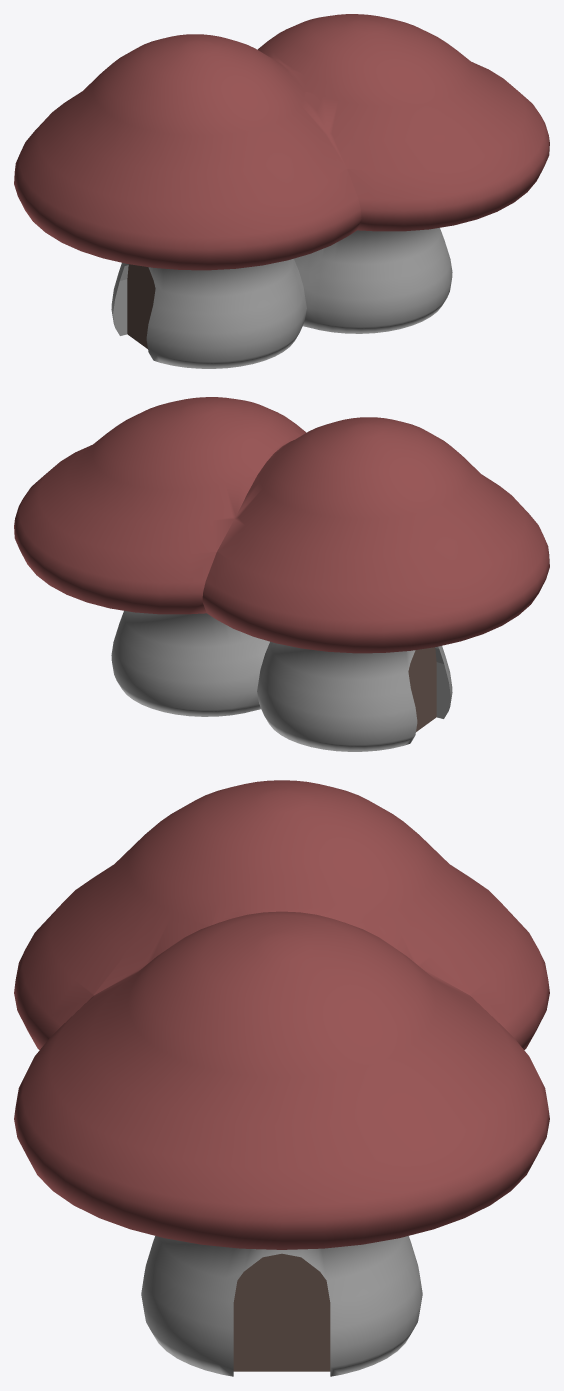
The model's file is HongoDoble2_Mod.fbx.
3 views of the same model, one above another, from view 1: azimuth 30°, elevation 25°; view 2: azimuth 150°, elevation 25°; view 3: azimuth 270°, elevation 25° (orthographic). The views are drawn at different scales.
Visible parts, largest first — view 1: HongoDoble2_Mod; view 2: HongoDoble2_Mod; view 3: HongoDoble2_Mod.
Part boxes in pixels (left/top/right/bottom): HongoDoble2_Mod: left=14, top=14, right=549, bottom=368; HongoDoble2_Mod: left=14, top=397, right=549, bottom=751; HongoDoble2_Mod: left=14, top=780, right=549, bottom=1376.
Size of the model in its own units: 1490 by 847 by 985.
